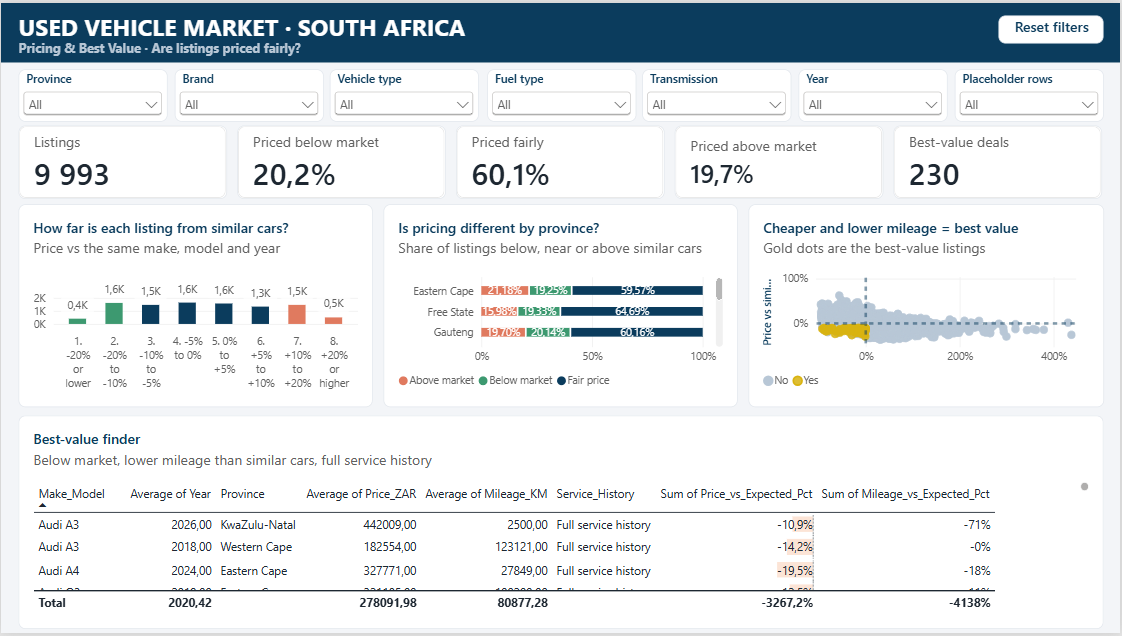

The dashboard page shown, as its layout file describes it:
{"tool":"powerbi","page":{"name":"Pricing and Best Value","canvas":[1280,720],"ordinal":3},"visuals":[{"type":"shape","box":[0,0,1280,68],"z":0},{"type":"textbox","box":[20,8,550,36],"z":1000},{"type":"textbox","box":[20.5,41,548.9,24.1],"z":2000},{"type":"slicer","fields":{"Values":["Fact_Vehicles.Province"]},"box":[20.5,76,170.1,60.3],"z":3000},{"type":"slicer","fields":{"Values":["Fact_Vehicles.Brand"]},"box":[198,76,170,60],"z":4000},{"type":"slicer","fields":{"Values":["Fact_Vehicles.Vehicle_Type"]},"box":[376,76,170,60],"z":5000},{"type":"slicer","fields":{"Values":["Fact_Vehicles.Fuel_Type"]},"box":[555,76,170,60],"z":6000},{"type":"slicer","fields":{"Values":["Fact_Vehicles.Transmission"]},"box":[733,76,170,60],"z":7000},{"type":"slicer","fields":{"Values":["Fact_Vehicles.Year"]},"box":[911,76,170,60],"z":8000},{"type":"slicer","fields":{"Values":["Fact_Vehicles.Placeholder_Flag"]},"box":[1090,76,170,60],"z":9000},{"type":"cardVisual","fields":{"Data":["_Measures (2).Listings"]},"box":[20,140,238,84],"z":10000},{"type":"cardVisual","fields":{"Data":["_Measures (2).Below Market %"]},"box":[270,140,238,84],"z":11000},{"type":"cardVisual","fields":{"Data":["_Measures (2).Fair Price %"]},"box":[520,140,238,84],"z":12000},{"type":"cardVisual","fields":{"Data":["_Measures (2).Above Market %"]},"box":[770,140,238,84],"z":13000},{"type":"cardVisual","fields":{"Data":["_Measures (2).Best Value Deals"]},"box":[1020,140,238,84],"z":14000},{"type":"actionButton","title":"Reset filters","box":[1140,14,120,32],"z":15000},{"type":"lineClusteredColumnComboChart","title":"How far is each listing from similar cars?","fields":{"Category":["Fact_Vehicles.Gap_Band"],"Y":["_Measures (2).Listings"]},"box":[20,230,405,232],"z":15001},{"type":"hundredPercentStackedBarChart","title":"Is pricing different by province?","fields":{"Category":["Fact_Vehicles.Province"],"Y":["_Measures (2).Listings"],"Series":["Fact_Vehicles.Value_Rating"]},"box":[437,230,405,232],"z":15002},{"type":"scatterChart","title":"Cheaper and lower mileage = best value","fields":{"Category":["Fact_Vehicles.Vehicle_ID"],"X":["Sum(Fact_Vehicles.Mileage_vs_Expected_Pct)"],"Y":["Sum(Fact_Vehicles.Price_vs_Expected_Pct)"],"Series":["Fact_Vehicles.Best_Value"]},"box":[854,230,406,232],"z":15003},{"type":"tableEx","title":"Best-value finder","fields":{"Values":["Fact_Vehicles.Make_Model","Avg(Fact_Vehicles.Year)","Fact_Vehicles.Province","Avg(Fact_Vehicles.Price_ZAR)","Avg(Fact_Vehicles.Mileage_KM)","Fact_Vehicles.Service_History","Sum(Fact_Vehicles.Price_vs_Expected_Pct)","Sum(Fact_Vehicles.Mileage_vs_Expected_Pct)"]},"box":[20,472,1240,244],"z":15004}]}

Visuals, with their boxes in screenshot pixels (x1, y1, x2, y2), scaled from the page's 1280x720 canvas onto the 1122x636 screenshot:
shape: pyautogui.locateOnScreen(0, 0, 1121, 60)
textbox: pyautogui.locateOnScreen(18, 7, 500, 39)
textbox: pyautogui.locateOnScreen(18, 36, 499, 58)
slicer - Fact_Vehicles.Province: pyautogui.locateOnScreen(18, 67, 167, 120)
slicer - Fact_Vehicles.Brand: pyautogui.locateOnScreen(174, 67, 323, 120)
slicer - Fact_Vehicles.Vehicle_Type: pyautogui.locateOnScreen(330, 67, 479, 120)
slicer - Fact_Vehicles.Fuel_Type: pyautogui.locateOnScreen(486, 67, 636, 120)
slicer - Fact_Vehicles.Transmission: pyautogui.locateOnScreen(643, 67, 792, 120)
slicer - Fact_Vehicles.Year: pyautogui.locateOnScreen(799, 67, 948, 120)
slicer - Fact_Vehicles.Placeholder_Flag: pyautogui.locateOnScreen(955, 67, 1104, 120)
cardVisual - _Measures (2).Listings: pyautogui.locateOnScreen(18, 124, 226, 198)
cardVisual - _Measures (2).Below Market %: pyautogui.locateOnScreen(237, 124, 445, 198)
cardVisual - _Measures (2).Fair Price %: pyautogui.locateOnScreen(456, 124, 664, 198)
cardVisual - _Measures (2).Above Market %: pyautogui.locateOnScreen(675, 124, 884, 198)
cardVisual - _Measures (2).Best Value Deals: pyautogui.locateOnScreen(894, 124, 1103, 198)
"Reset filters" actionButton: pyautogui.locateOnScreen(999, 12, 1104, 41)
"How far is each listing from similar cars?" lineClusteredColumnComboChart: pyautogui.locateOnScreen(18, 203, 373, 408)
"Is pricing different by province?" hundredPercentStackedBarChart: pyautogui.locateOnScreen(383, 203, 738, 408)
"Cheaper and lower mileage = best value" scatterChart: pyautogui.locateOnScreen(749, 203, 1104, 408)
"Best-value finder" tableEx: pyautogui.locateOnScreen(18, 417, 1104, 632)
